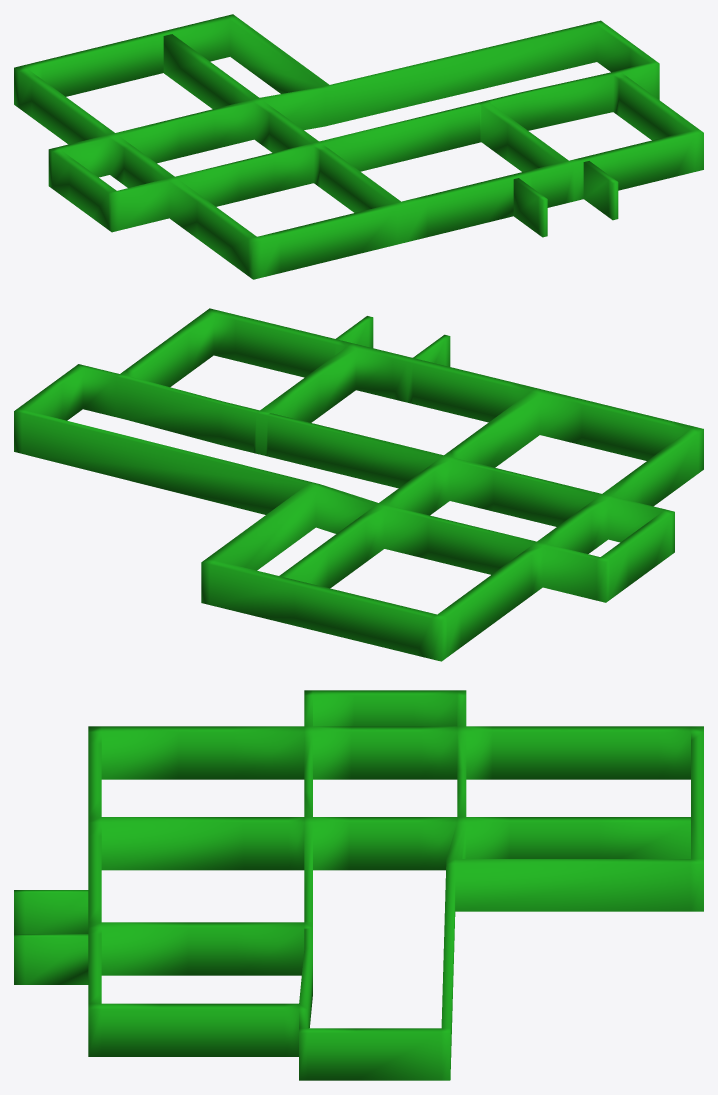
The model's file is foundation.obj.
3 renders of one model, top to bottom at view 1: azimuth 30°, elevation 25°; view 2: azimuth 150°, elevation 25°; view 3: azimuth 270°, elevation 25°, orthographic. The views are drawn at different scales.
Parts seen in each view (by area): view 1: Plane002; view 2: Plane002; view 3: Plane002.
Boxes of the visible parts, box(x1,y1,x2,y2) form: Plane002: box(14, 14, 703, 279); Plane002: box(14, 308, 703, 661); Plane002: box(14, 690, 703, 1080).
Bounding box in the file's own units: 61.32 × 3.97 × 52.18.
